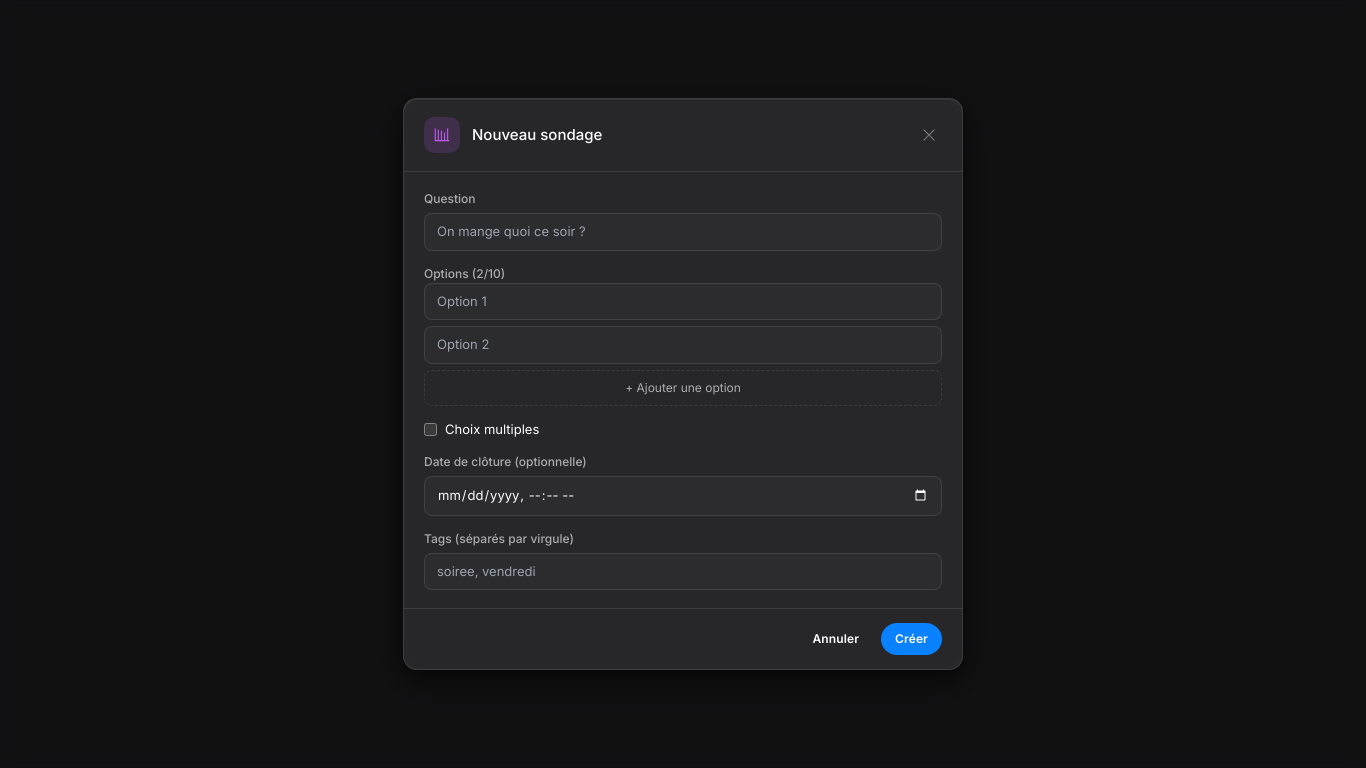
Test case: PollModal — nommage accessible (MAN-245 Phase 2) › nomme chaque option individuellement, pas seulement la première
Expected: the field labelled "Option 1" is shown, [424,282,942,320]
Expected: the field labelled "Option 2" is shown, [424,326,942,364]
Click the button "+ Ajouter une option" at [683, 388], box [424,370,942,406]
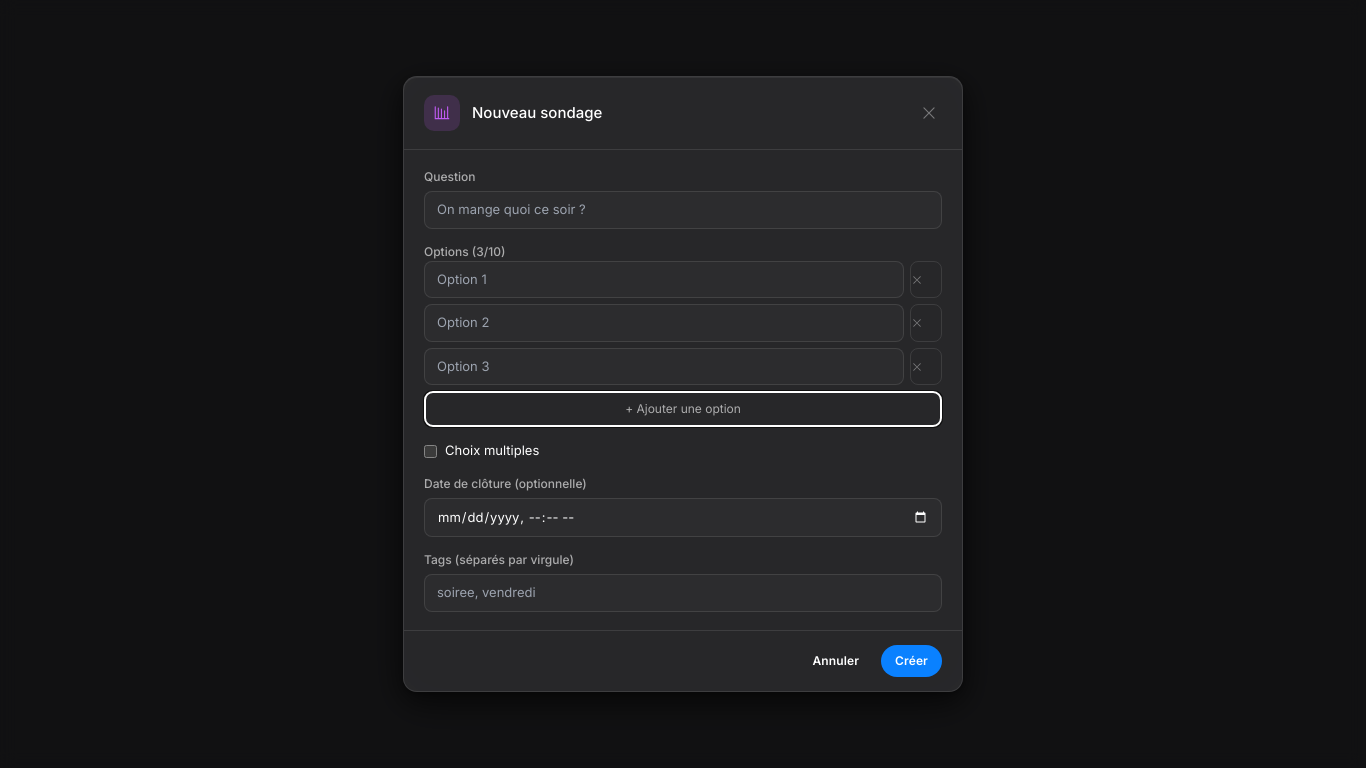
Expected: the field labelled "Option 3" is shown, [424,348,904,385]
